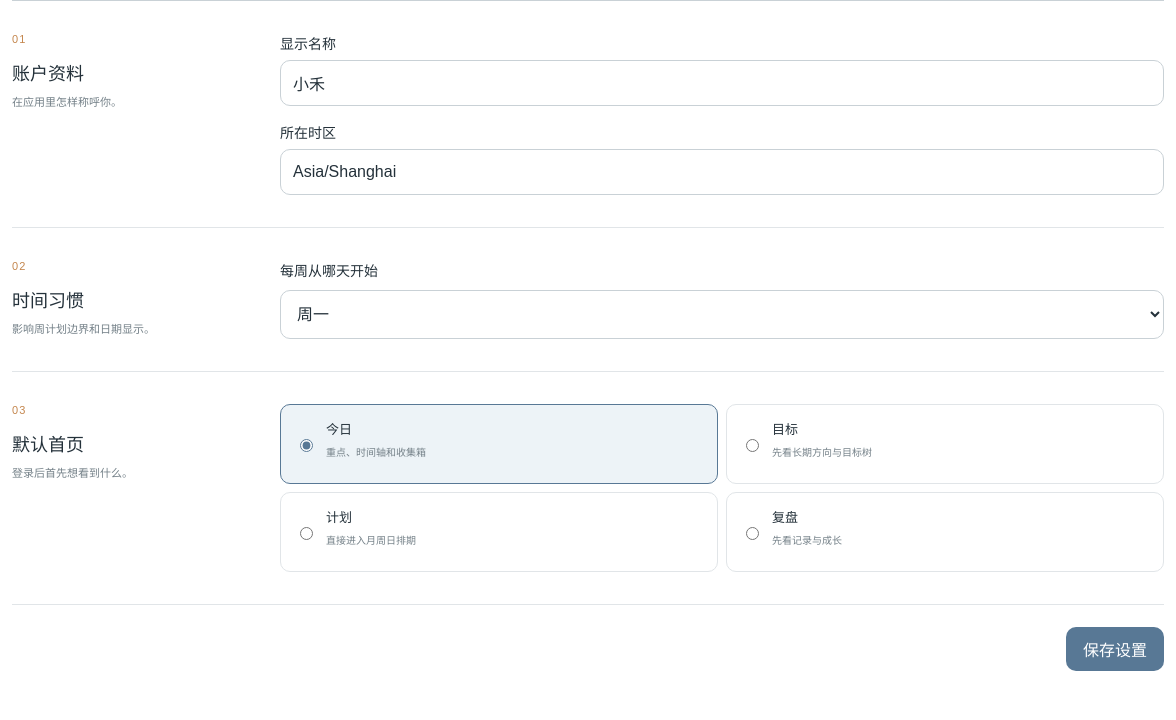
Test case: SettingsForm › saves the selected default home page
Click the radio button labelled "计划 直接进入月周日排期" at point(306, 533), box [300,510,313,557]
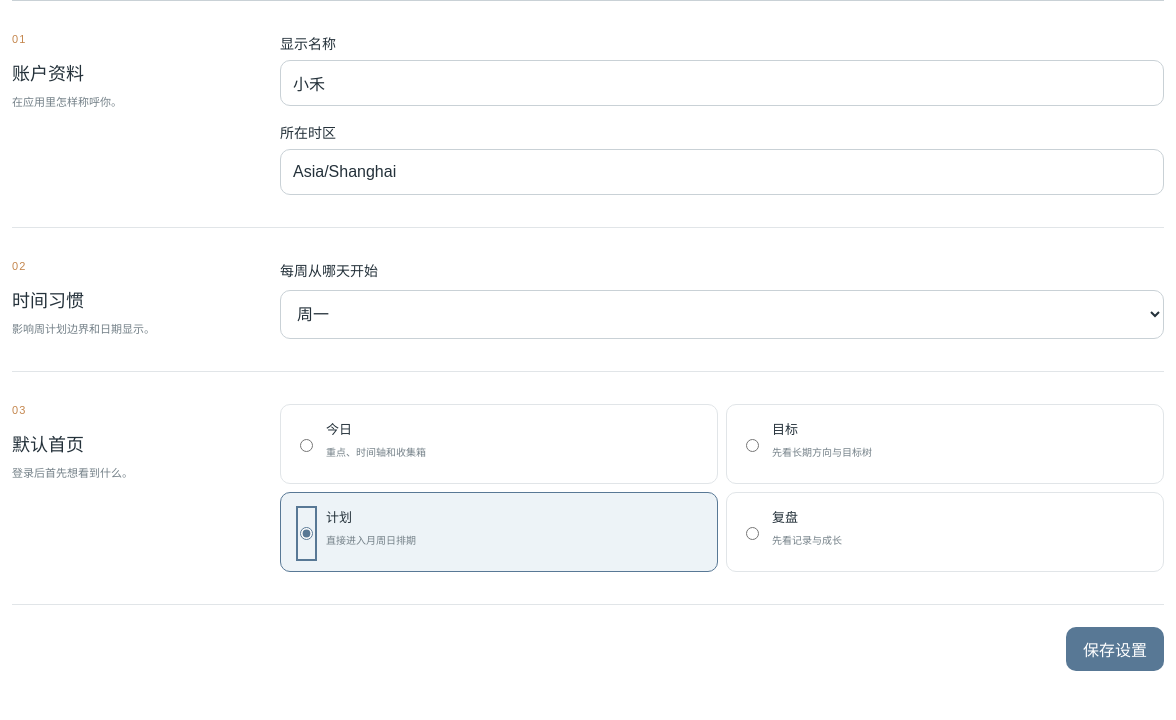
Click the button "保存设置" at point(1115, 649), box [1066,627,1164,671]
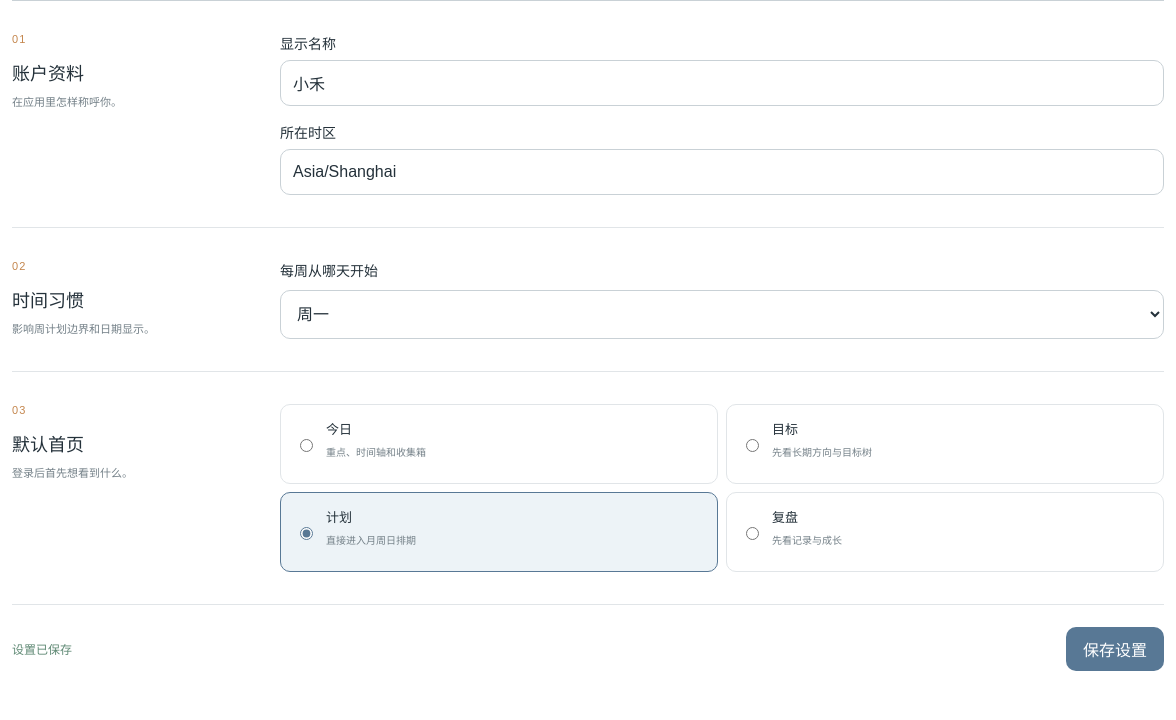
Expected: the text "设置已保存" is shown, [12,640,72,657]
